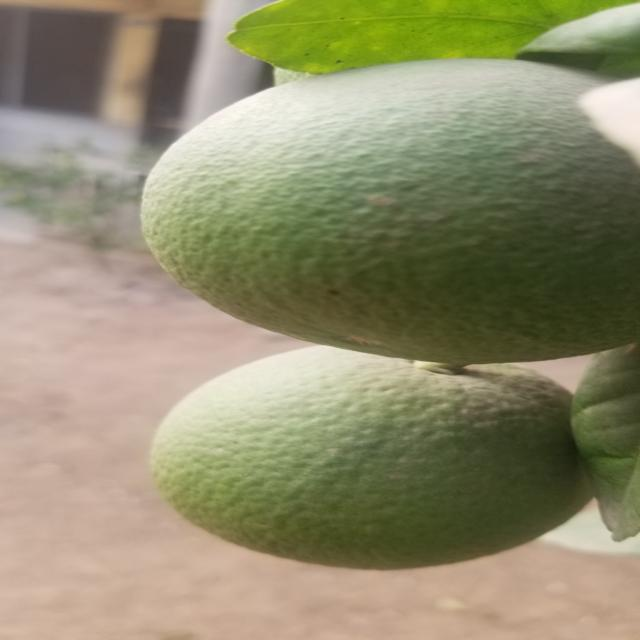Unripe: (150, 58, 640, 356), (147, 346, 597, 570)
